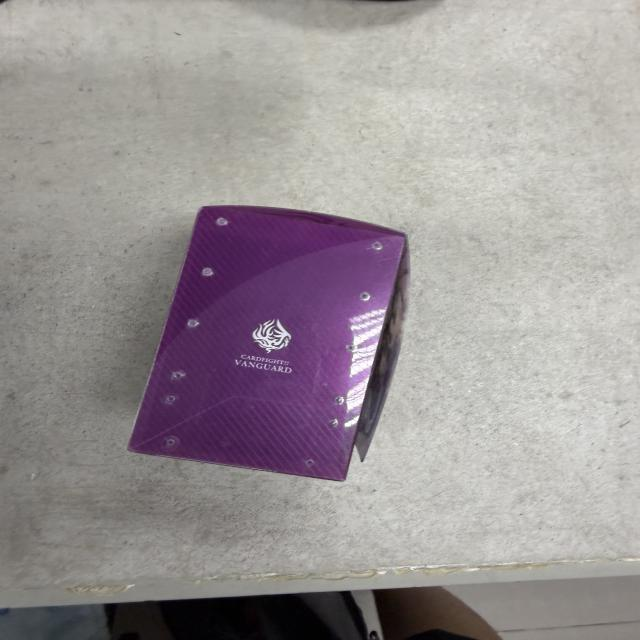box: (127, 200, 413, 489)
